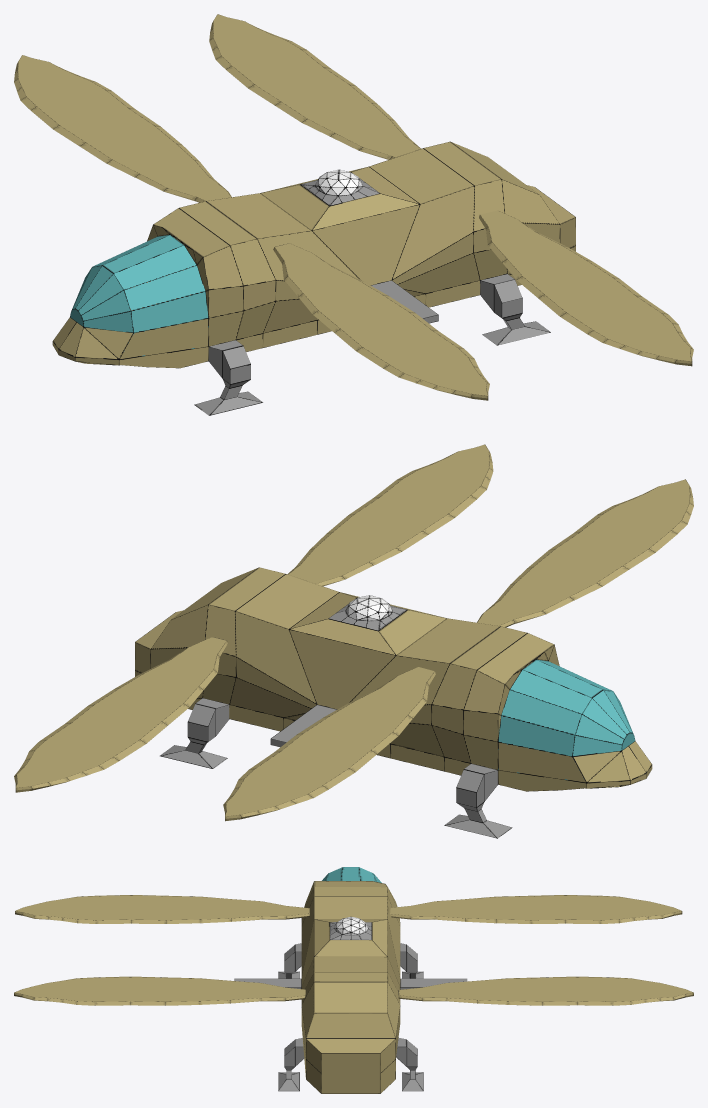
The model's file is full_thopter.obj.
The picture shows the model from 3 angles, top to bottom: view 1: azimuth 30°, elevation 25°; view 2: azimuth 150°, elevation 25°; view 3: azimuth 270°, elevation 25°; orthographic projection. The views are drawn at different scales.
Visible parts, largest first — view 1: helo_base.bug_Cube.009, large_wing_FL_Cylinder, large_wing_BL_Cylinder.002, large_wing._FR_Cylinder.001, large_wing.BR_Cylinder.003; view 2: helo_base.bug_Cube.009, large_wing.BR_Cylinder.003, large_wing._FR_Cylinder.001, large_wing_FL_Cylinder, large_wing_BL_Cylinder.002; view 3: helo_base.bug_Cube.009, large_wing.BR_Cylinder.003, large_wing_BL_Cylinder.002, large_wing_FL_Cylinder, large_wing._FR_Cylinder.001.
Boxes of the visible parts, x1=… form: helo_base.bug_Cube.009: x1=52, y1=141, x2=575, y2=415; large_wing_FL_Cylinder: x1=273, y1=243, x2=489, y2=400; large_wing_BL_Cylinder.002: x1=479, y1=210, x2=693, y2=366; large_wing._FR_Cylinder.001: x1=14, y1=55, x2=231, y2=202; large_wing.BR_Cylinder.003: x1=209, y1=14, x2=420, y2=159; helo_base.bug_Cube.009: x1=135, y1=567, x2=652, y2=838; large_wing.BR_Cylinder.003: x1=14, y1=637, x2=228, y2=792; large_wing._FR_Cylinder.001: x1=223, y1=667, x2=435, y2=821; large_wing_FL_Cylinder: x1=477, y1=479, x2=693, y2=627; large_wing_BL_Cylinder.002: x1=287, y1=444, x2=493, y2=586; helo_base.bug_Cube.009: x1=234, y1=867, x2=467, y2=1093; large_wing.BR_Cylinder.003: x1=398, y1=976, x2=693, y2=1005; large_wing_BL_Cylinder.002: x1=14, y1=976, x2=305, y2=1005; large_wing_FL_Cylinder: x1=15, y1=895, x2=309, y2=923; large_wing._FR_Cylinder.001: x1=390, y1=895, x2=682, y2=923.
Bounding box in the file's own units: 9.14 × 2.84 × 15.14.
Materials: 5 (5 with a texture image).
